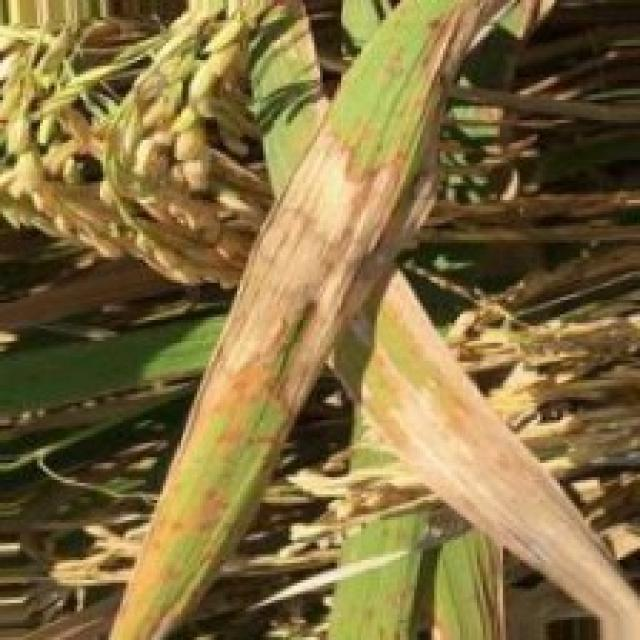Bacterial_Blight: (321, 342, 640, 640), (185, 106, 409, 399), (410, 0, 534, 99)
